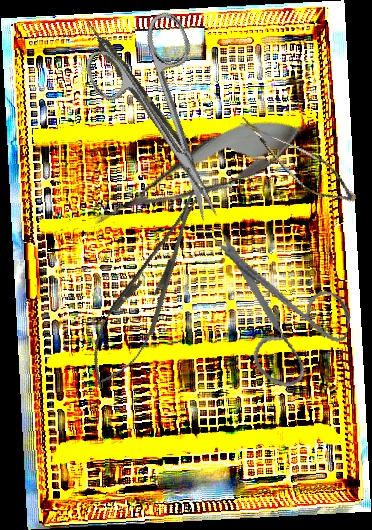Handpiece: (82, 18, 197, 167)
Iris Scissors: (76, 7, 257, 241), (185, 227, 364, 398)
Micro Scissor: (80, 97, 317, 248), (222, 115, 368, 210)
Needle Holder: (74, 182, 220, 400)
